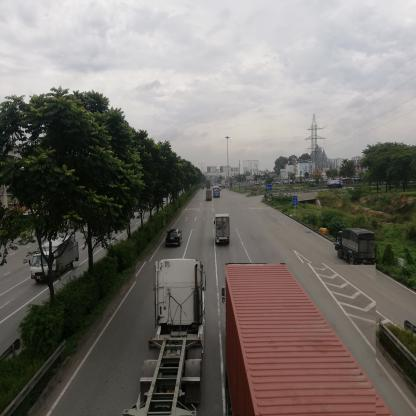bus: (214, 188, 220, 198)
car: (167, 230, 183, 248)
container: (226, 264, 377, 416), (137, 262, 207, 416)
truck: (335, 228, 376, 266), (32, 243, 81, 272), (215, 215, 230, 247), (328, 180, 343, 190), (207, 191, 213, 203)
